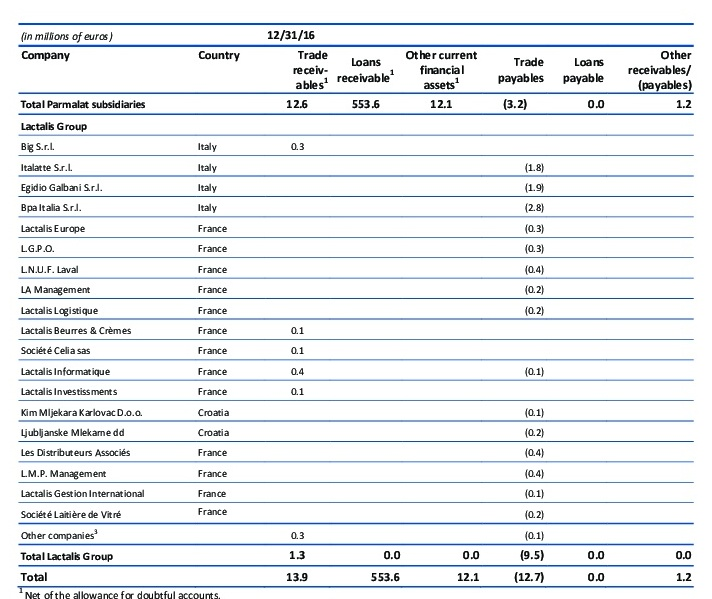table: (0, 0, 712, 599)
